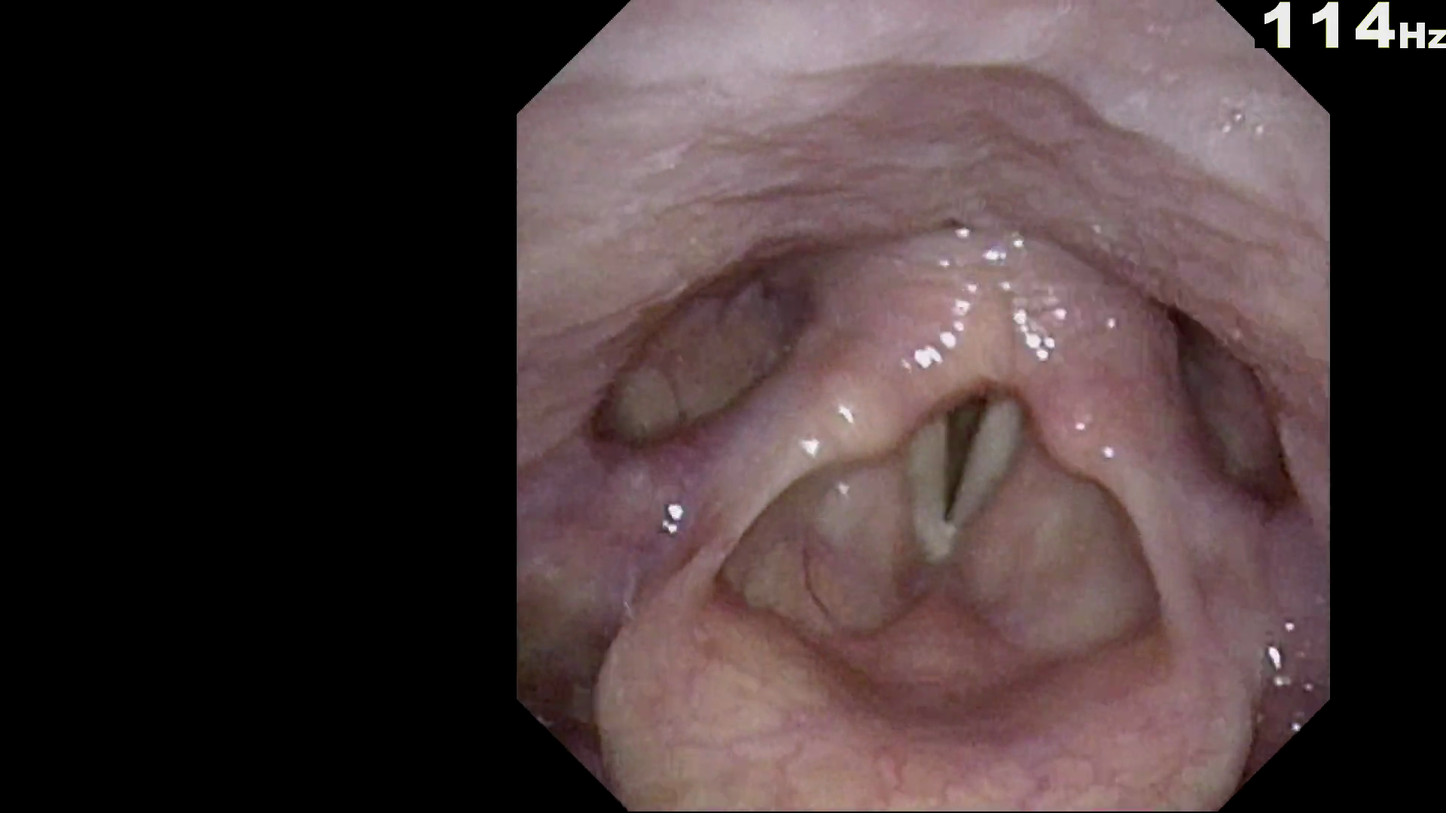epiglottis: (583, 503, 1267, 748)
trachea: (868, 351, 1047, 576)
